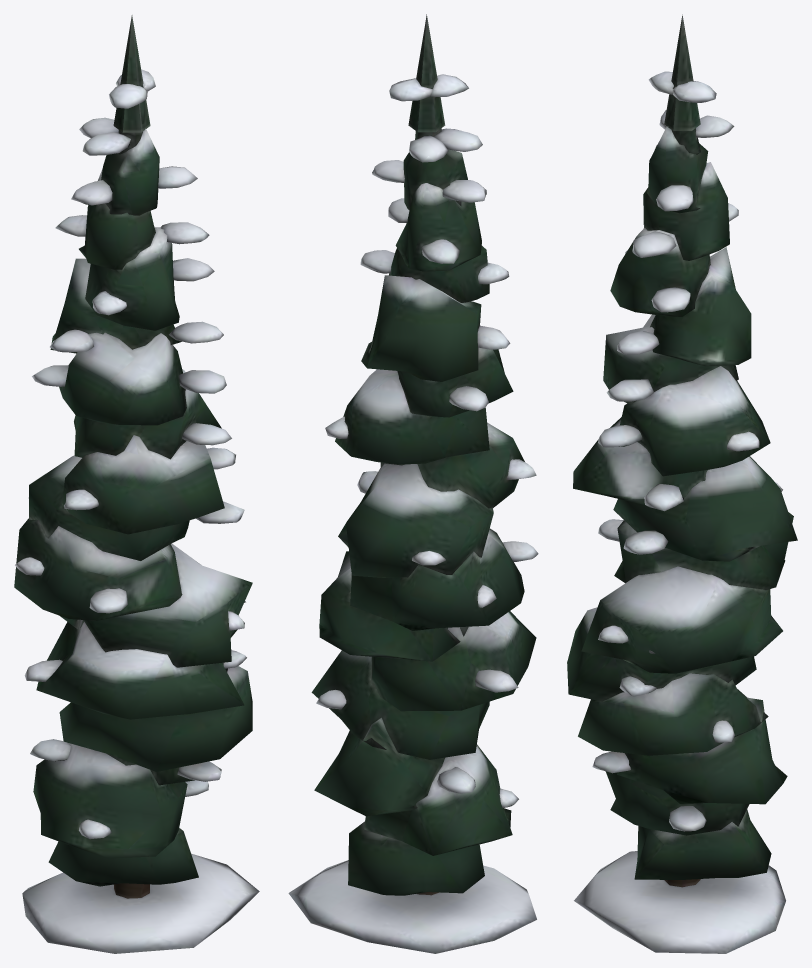
Rendered from tree_cypress.glb.
3 renders of one model, left to right at view 1: azimuth 30°, elevation 25°; view 2: azimuth 150°, elevation 25°; view 3: azimuth 270°, elevation 25°, orthographic.
Visible parts, largest first — view 1: tree_cypress; view 2: tree_cypress; view 3: tree_cypress.
Part boxes in pixels (x1,y1,x2,y2): tree_cypress: [14, 15, 259, 953]; tree_cypress: [288, 14, 538, 953]; tree_cypress: [567, 14, 797, 953].
Bounding box in the file's own units: 1.61 × 6.41 × 1.51.
Materials: 1 (1 with a texture image).
